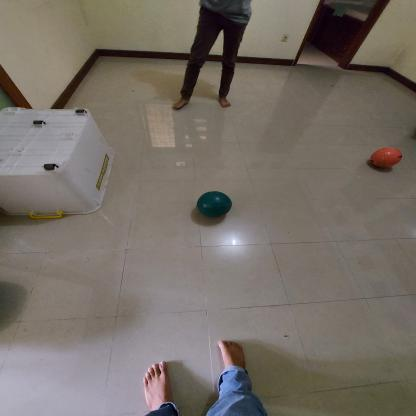green_buoy: (195, 190, 235, 219)
red_buoy: (368, 146, 404, 170)
